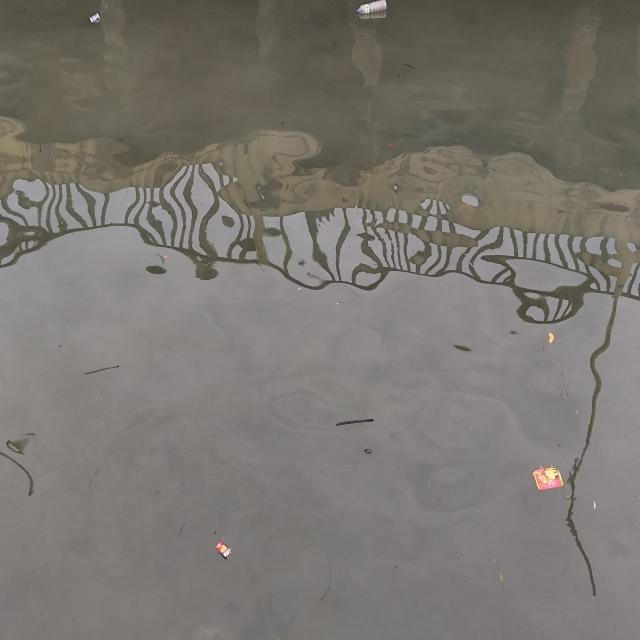Botol Plastik: (353, 1, 392, 22)
Bungkus Makanan: (529, 455, 569, 501), (215, 539, 235, 560)
Bungkus Minuman: (85, 8, 112, 34)
